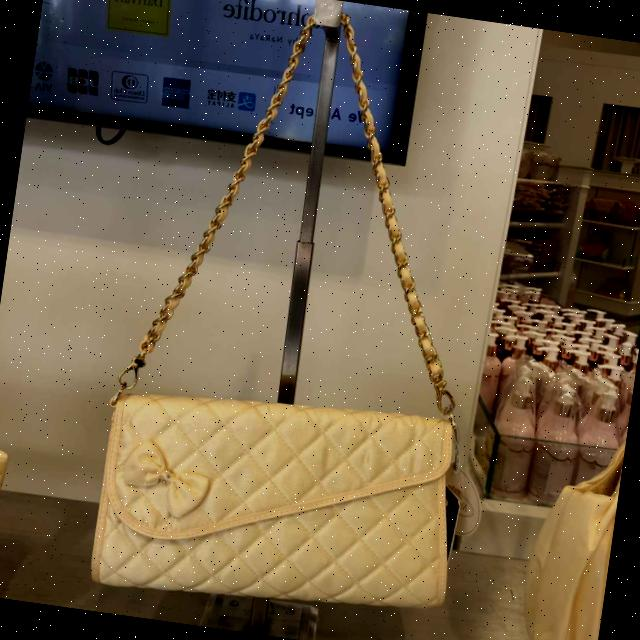Handbag: (85, 347, 491, 640)
